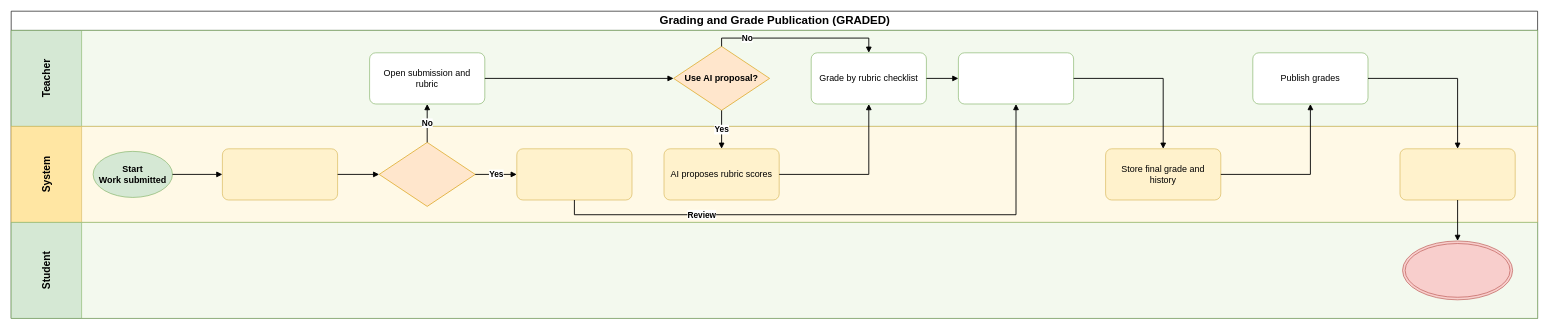
Image size: 1549x330. Some labels were removed from this diagram. Each missing label, with the centre of its shape:
"Auto-score, save draft grade" belongs at (574,174).
"Create pending grade" belongs at (280,174).
"End Student sees grade and feedback" belongs at (1457,270).
"Mark published, notify student" belongs at (1457,174).
"Quiz or Code Lab?" belongs at (427,174).
"Save and finalize grades" belongs at (1016,78).
